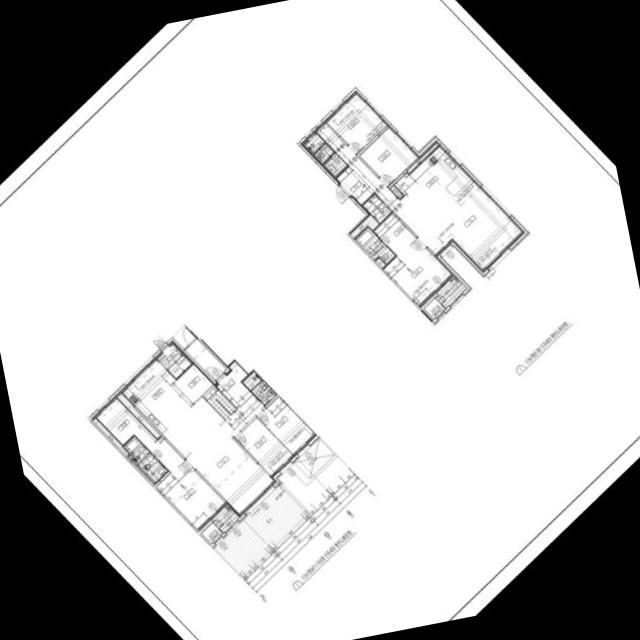background: (0, 0, 640, 640)
space_balconi: (435, 277, 467, 308), (213, 506, 239, 532)
space_bedroom: (157, 459, 226, 530), (384, 238, 454, 307), (326, 90, 388, 153), (235, 417, 294, 477), (257, 396, 316, 455), (360, 126, 419, 185)
space_dressroom: (95, 396, 184, 472), (374, 213, 416, 255)
space_front: (214, 361, 252, 407), (335, 165, 374, 205)
space_kitchen: (121, 360, 225, 458), (405, 145, 470, 218)
space_living_room: (315, 121, 524, 272), (186, 394, 275, 516)
space_multipurpose_space: (156, 342, 191, 378)
space_other: (116, 391, 160, 438), (185, 338, 226, 380), (176, 363, 214, 400), (407, 140, 439, 173), (363, 194, 391, 222), (350, 214, 379, 238), (104, 429, 129, 455), (394, 172, 417, 195), (91, 416, 104, 429), (390, 185, 403, 198), (376, 257, 385, 267)
space_outdoor_room: (201, 522, 222, 543), (424, 298, 445, 319)
space_staircase: (203, 385, 237, 419)
space_toilet: (123, 436, 168, 483), (305, 133, 347, 176), (355, 227, 395, 263), (243, 371, 276, 405)
